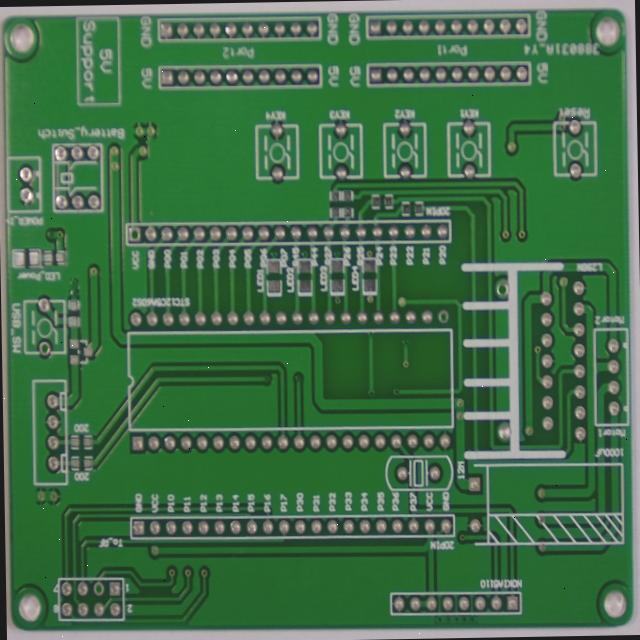missing_hole: (536, 316, 555, 344), (37, 385, 58, 410), (137, 255, 153, 279), (473, 351, 490, 371)
